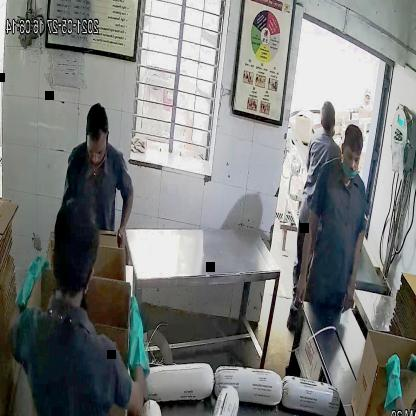no_goggles: (338, 145, 366, 171), (82, 143, 111, 164)
